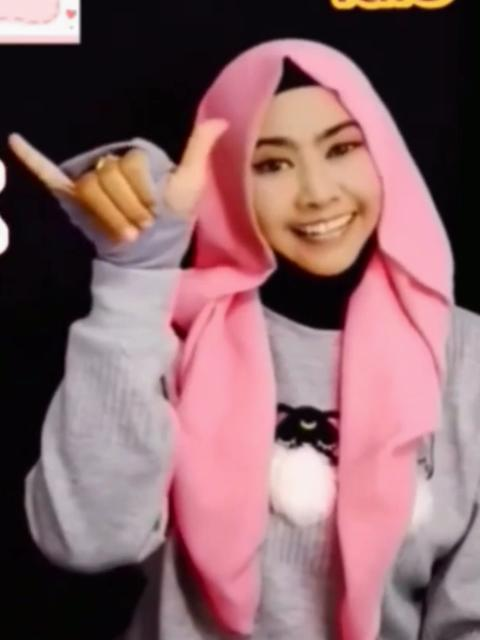Y: (9, 112, 231, 262)
